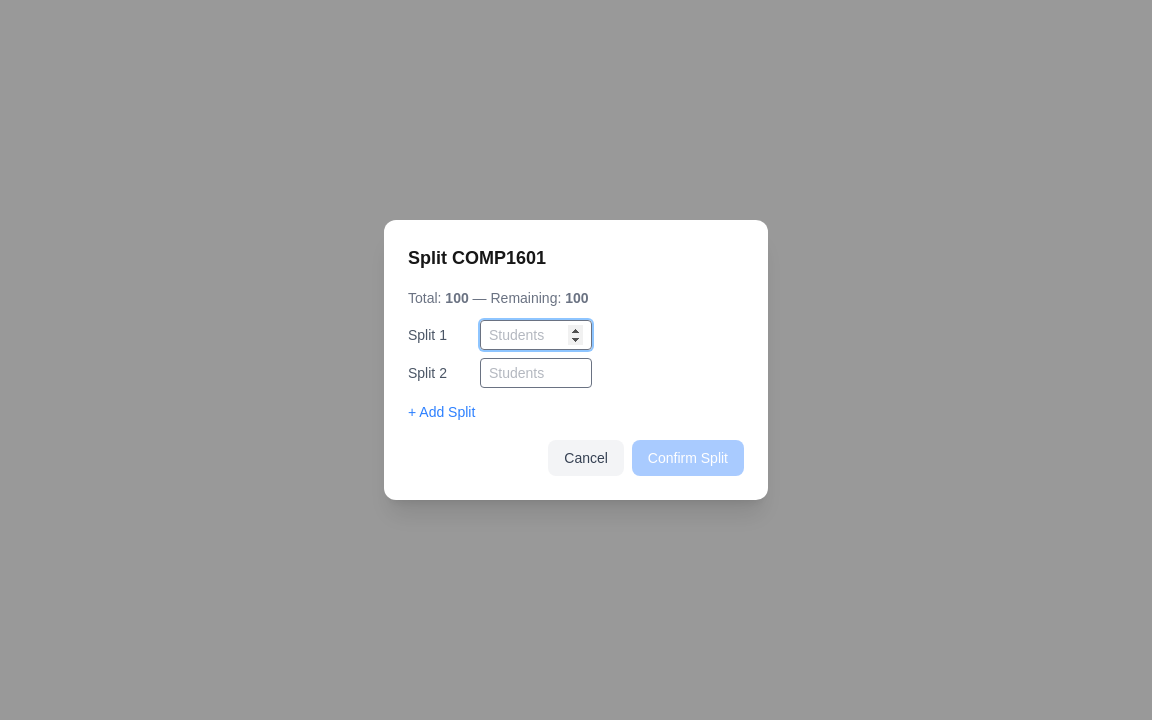
SplitExamDialog › should enable confirm when splits sum exactly to total
The width and height of the screenshot is (1152, 720).
Type "60" into the 1st number field with placeholder "Students" at [536, 335], box 480,320 -> 592,350
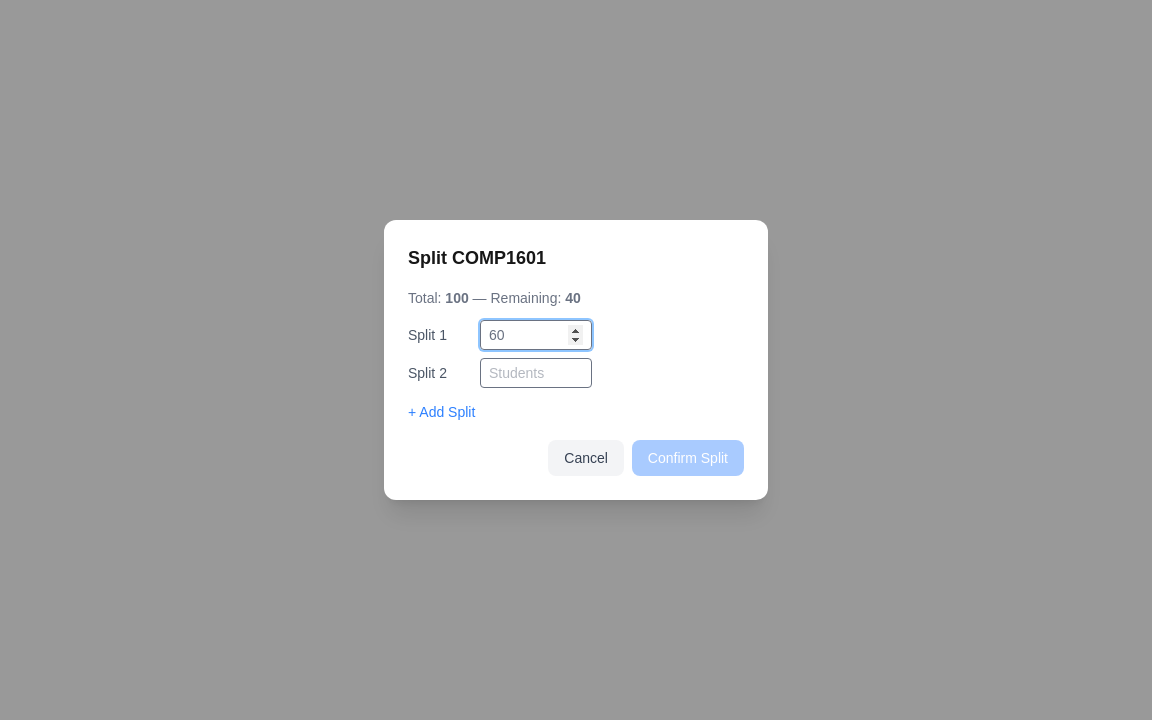
Type "40" into the number field with placeholder "Students" at [536, 373], box 480,358 -> 592,388
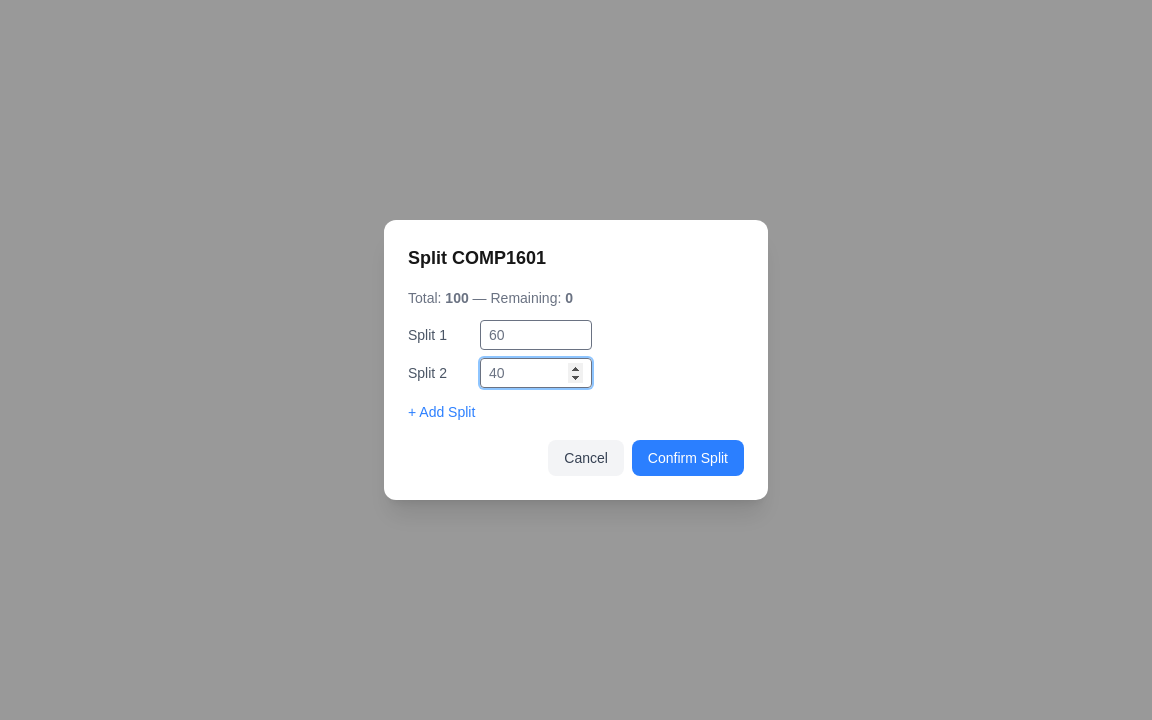
Expected: the button "Confirm Split" is enabled, 632,440 -> 744,476
